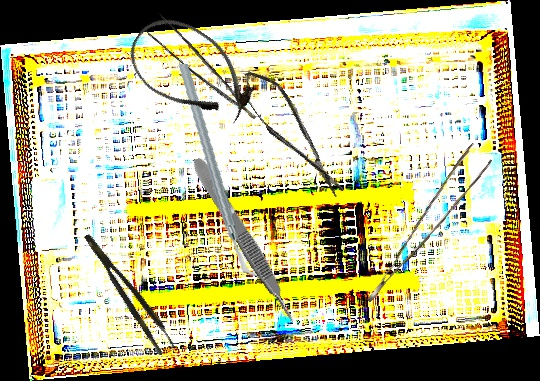Cannula: (116, 3, 267, 139)
Chopper: (154, 63, 283, 278)
Micro Scissor: (233, 61, 352, 207)
Tissue Forceps: (343, 142, 500, 303), (189, 153, 300, 328), (140, 7, 257, 136), (82, 226, 177, 357)
